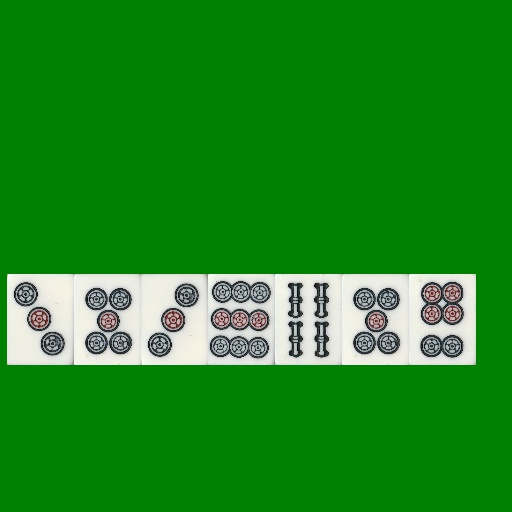3p: (7, 274, 74, 365), (141, 274, 208, 365)
4s: (275, 274, 342, 365)
5p: (74, 274, 141, 365), (342, 274, 409, 365)
6p: (409, 274, 476, 365)
9p: (208, 274, 275, 365)
